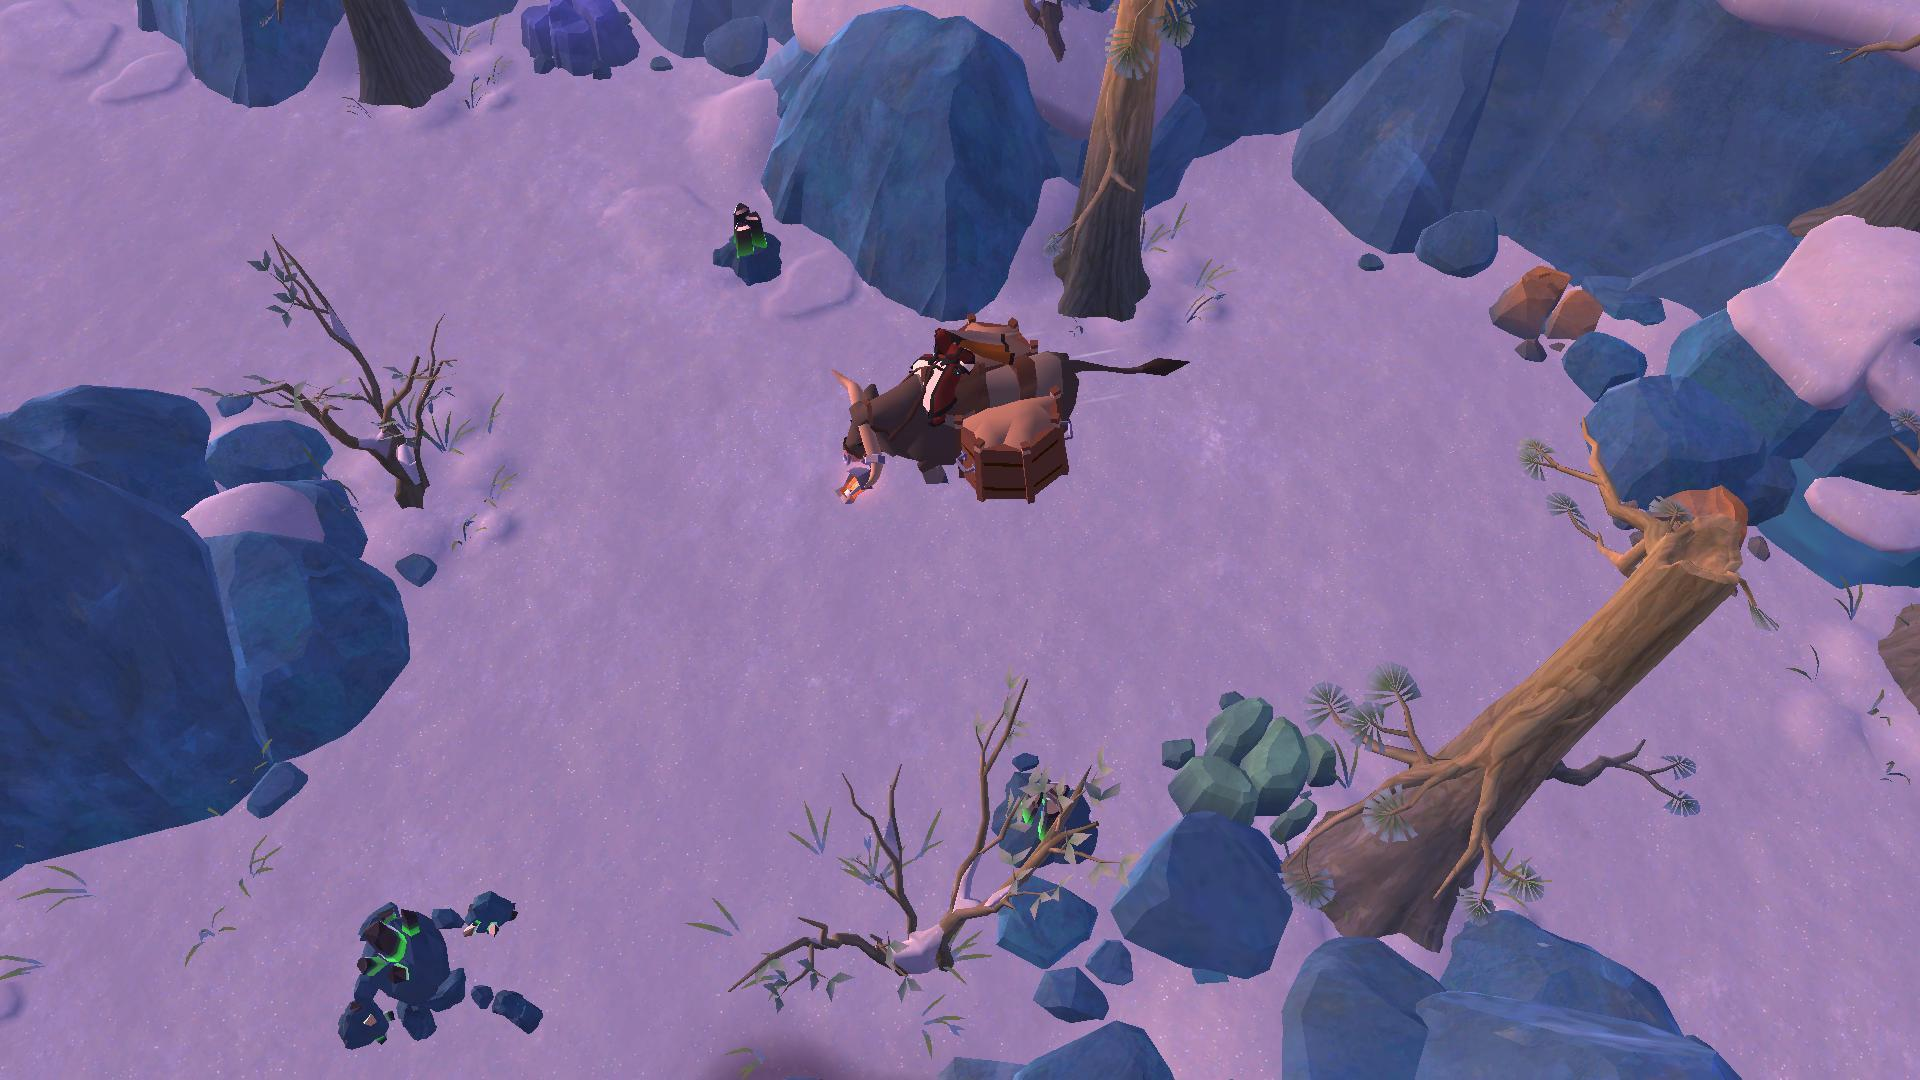ore_t3: (1009, 775, 1071, 841), (721, 194, 773, 269)
rock_t3: (1158, 691, 1337, 837)
rock_t4: (513, 0, 647, 94)
